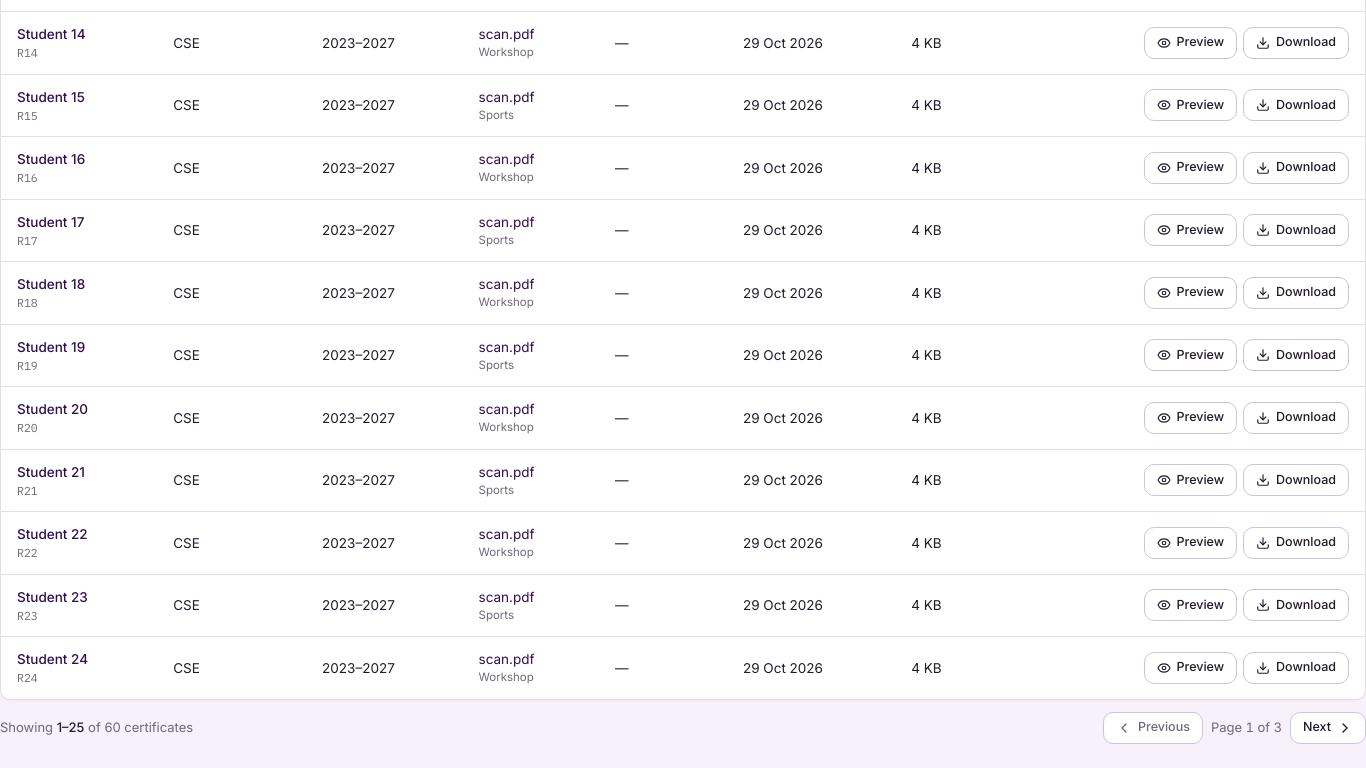
Test: faculty › go back to the first page when a filter changes
(page scrolled)
Click the button "Next" at (1328, 728), box top-left (1290, 712), bottom-right (1365, 744)
(page scrolled)
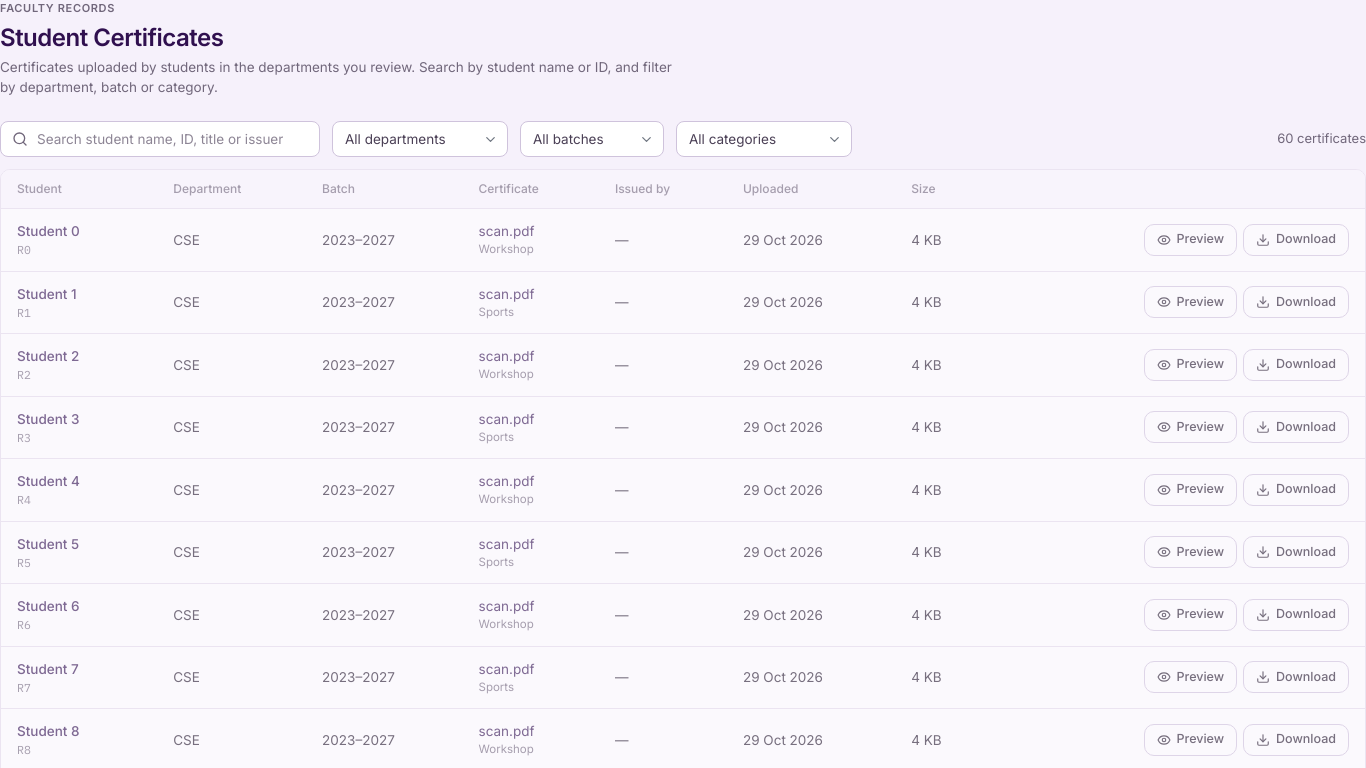
Select "Sports" in the 3rd dropdown named "Category" at (764, 139), box top-left (676, 121), bottom-right (852, 157)
(page scrolled)
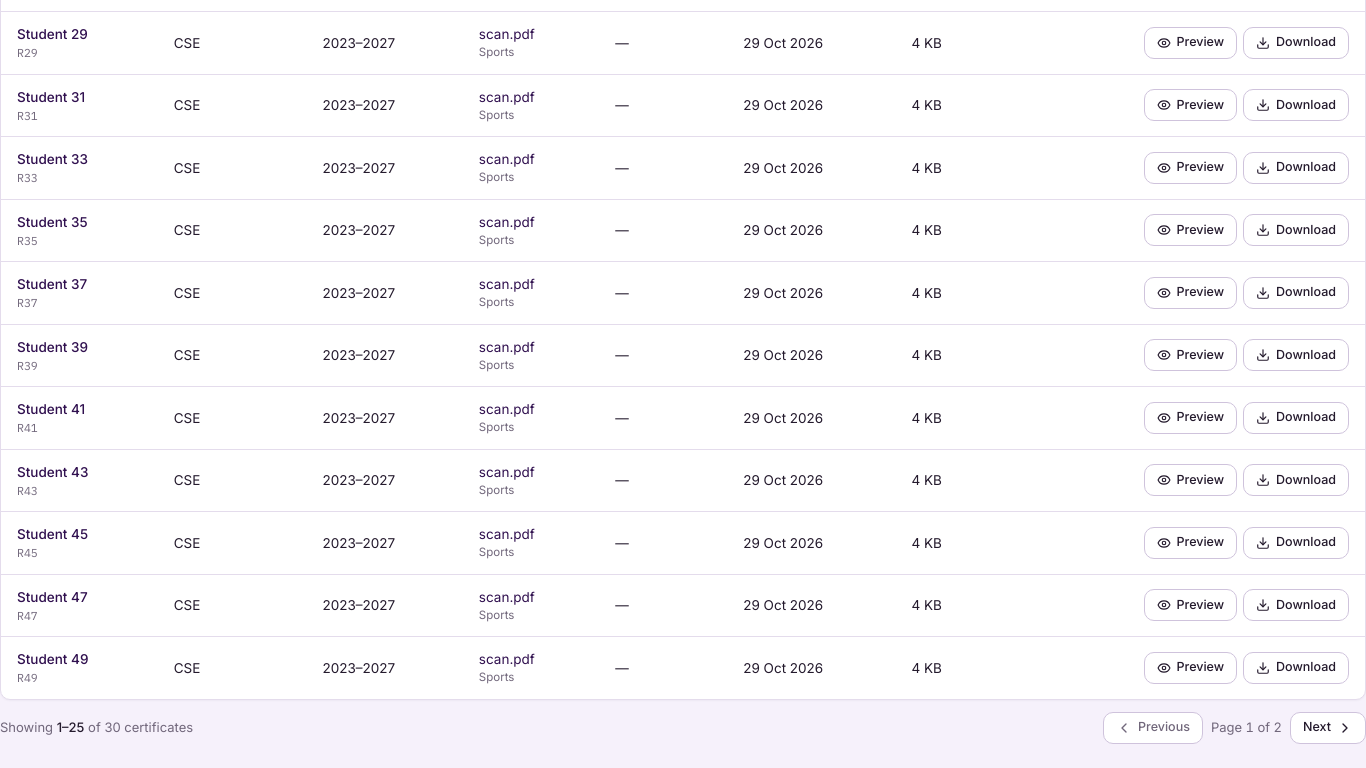
Check: the text "Page 1 of 2" is shown, box top-left (1211, 718), bottom-right (1282, 737)
